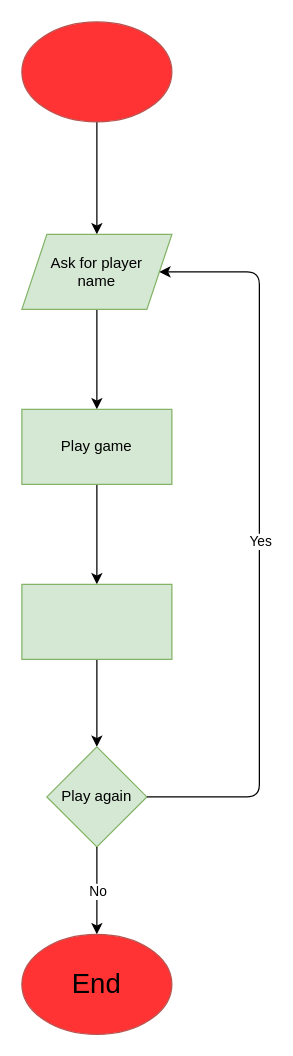
Some shapes in this 293 by 1056 pixel diagram are drawn without their labels. Here are the shapes that lost their labels. From the top down, the box of each, then its label:
(21, 21, 172, 122): Start
(21, 583, 172, 659): Print score
